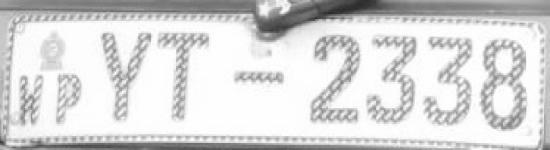-: (228, 65, 288, 90)
2: (305, 27, 366, 128)
3: (419, 25, 478, 131), (365, 27, 420, 131)
8: (478, 32, 532, 138)
P: (48, 69, 89, 129)
T: (153, 23, 213, 126)
W: (17, 69, 45, 131)
Y: (98, 27, 154, 123)
